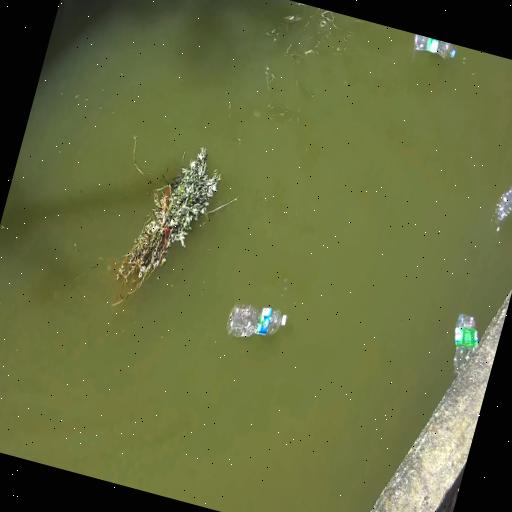plastic: (227, 304, 287, 337), (454, 314, 478, 375), (414, 34, 455, 58), (495, 188, 511, 223)
twig: (116, 147, 221, 295)
